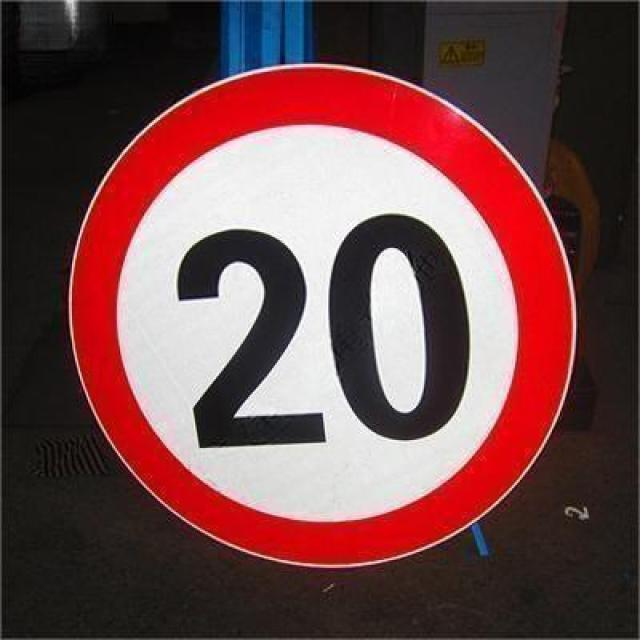speed limit 20: (66, 64, 575, 571)
